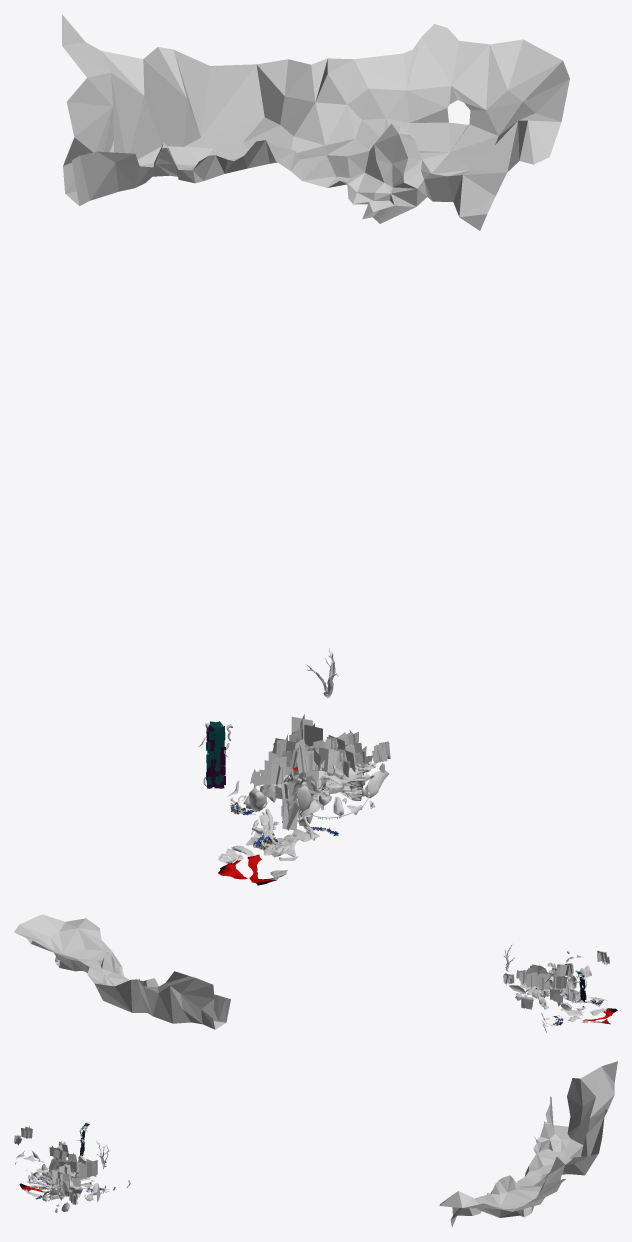
3 views of the same model, one above another, from view 1: azimuth 30°, elevation 25°; view 2: azimuth 150°, elevation 25°; view 3: azimuth 270°, elevation 25° (orthographic). The views are drawn at different scales.
Visible parts, largest first — view 1: m01a09OMesh_OccluderMesh_0, m01a09kabe2_1_Group_0_Sub_1__N_treeB_, m01a09kabe_1_Group_0_Sub_3__N_treeB_, m01a09kabe4_1_Group_0_Sub_3__B_jimen04_, m01a09kabe5_1_Group_0_Sub_2__N_tuta02_; view 2: m01a09OMesh_OccluderMesh_0, m01a09kabe2_1_Group_0_Sub_1__N_treeB_, m01a09kabe_1_Group_0_Sub_3__N_treeB_, m01a09kabe4_1_Group_0_Sub_3__B_jimen04_, m01a09iwa1_1_Group_0_Sub_1__B_iwakabe01_; view 3: m01a09OMesh_OccluderMesh_0, m01a09kabe2_1_Group_0_Sub_1__N_treeB_, m01a09kabe_1_Group_0_Sub_3__N_treeB_.
Boxes of the visible parts, x1=… form: m01a09OMesh_OccluderMesh_0: x1=62, y1=14, x2=569, y2=230; m01a09kabe2_1_Group_0_Sub_1__N_treeB_: x1=270, y1=730, x2=390, y2=798; m01a09kabe_1_Group_0_Sub_3__N_treeB_: x1=275, y1=714, x2=338, y2=830; m01a09kabe4_1_Group_0_Sub_3__B_jimen04_: x1=218, y1=821, x2=319, y2=885; m01a09kabe5_1_Group_0_Sub_2__N_tuta02_: x1=206, y1=721, x2=225, y2=788; m01a09OMesh_OccluderMesh_0: x1=14, y1=914, x2=230, y2=1029; m01a09kabe2_1_Group_0_Sub_1__N_treeB_: x1=503, y1=950, x2=609, y2=985; m01a09kabe_1_Group_0_Sub_3__N_treeB_: x1=526, y1=963, x2=577, y2=1003; m01a09kabe4_1_Group_0_Sub_3__B_jimen04_: x1=557, y1=1007, x2=617, y2=1024; m01a09iwa1_1_Group_0_Sub_1__B_iwakabe01_: x1=525, y1=978, x2=572, y2=1009; m01a09OMesh_OccluderMesh_0: x1=439, y1=1061, x2=617, y2=1227; m01a09kabe2_1_Group_0_Sub_1__N_treeB_: x1=14, y1=1126, x2=80, y2=1204; m01a09kabe_1_Group_0_Sub_3__N_treeB_: x1=47, y1=1156, x2=97, y2=1179.
Bounding box in the file's own units: 61194 × 30512 × 76006.
